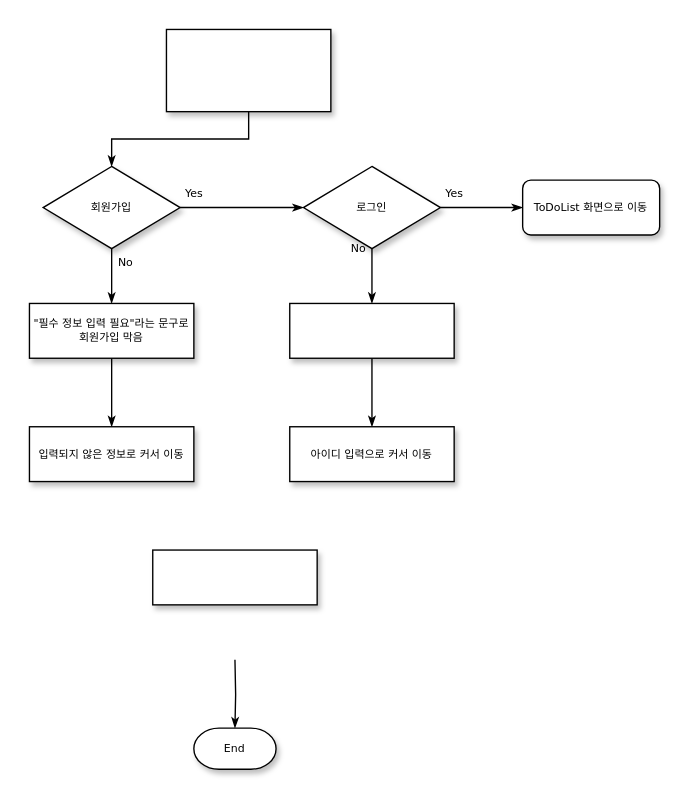
This 692x803 diagram has some shape labels left out. Here are the shapes that lost their labels. From the top down, the centre of each, then its label:
the point at 249,72: 오늘 (Oneul)
the point at 372,332: 로그인 정보 틀리면 막음
the point at 235,578: Monitor work orders
